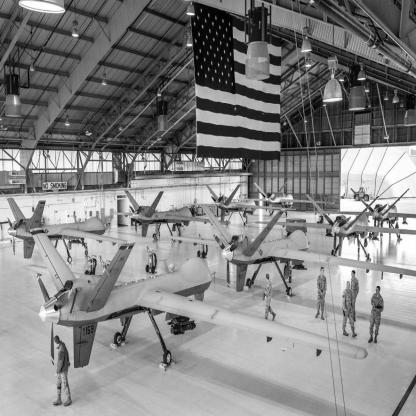MQ9: (31, 228, 370, 369), (167, 206, 416, 299), (255, 194, 416, 261), (7, 198, 129, 264), (112, 191, 232, 240), (306, 189, 416, 241), (188, 185, 298, 227), (233, 183, 336, 218)
